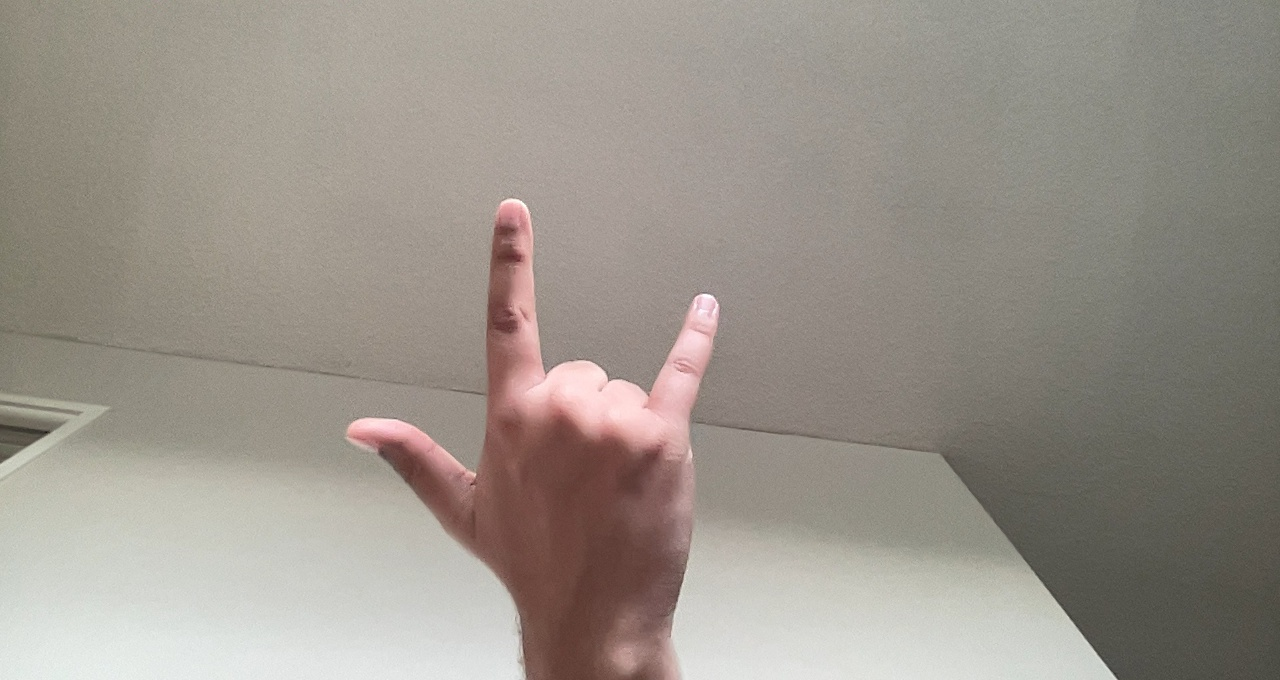rockon sign: (329, 195, 735, 640)
